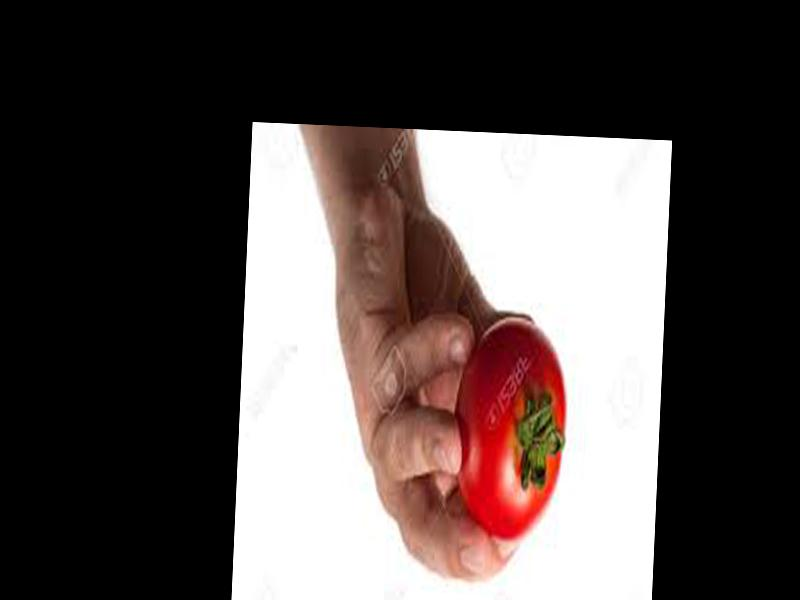Tomato: (451, 317, 570, 542)
